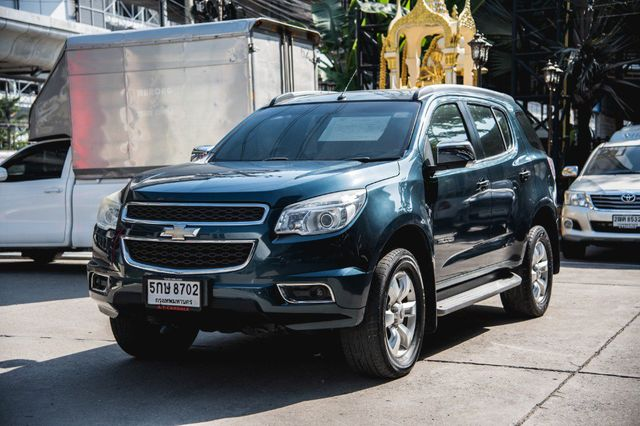pickup: (88, 84, 560, 378)
